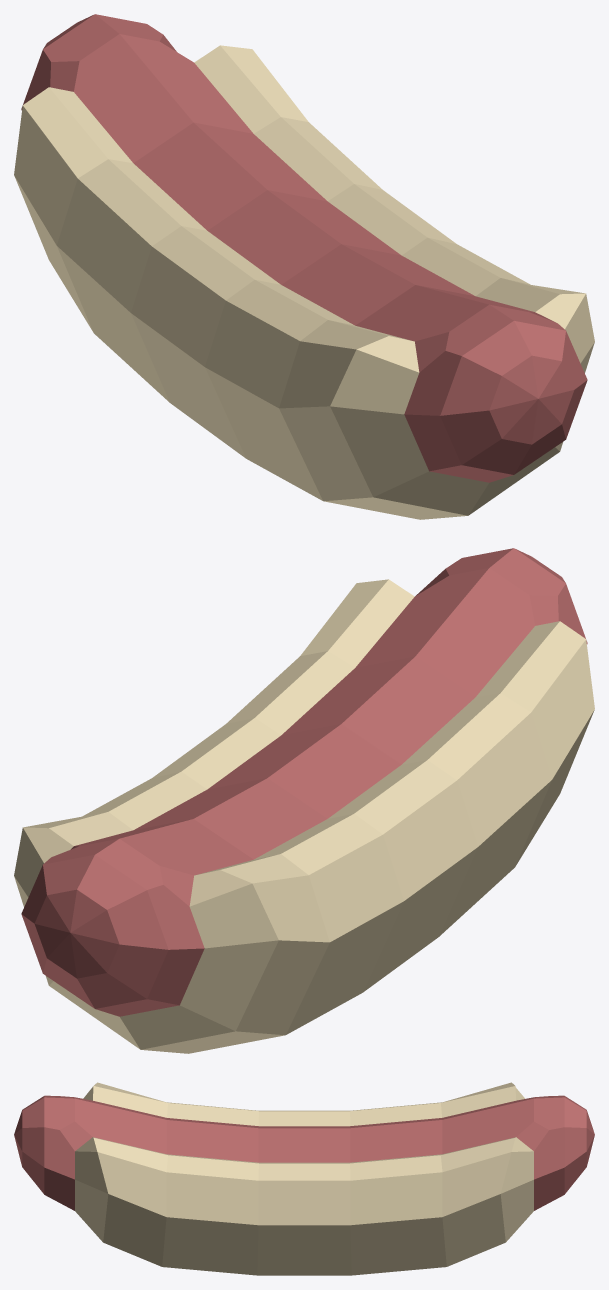
The model's file is HotDog.fbx.
The picture shows the model from 3 angles, top to bottom: view 1: azimuth 30°, elevation 25°; view 2: azimuth 150°, elevation 25°; view 3: azimuth 270°, elevation 25°; orthographic projection. The views are drawn at different scales.
Visible parts, largest first — view 1: pCylinder1; view 2: pCylinder1; view 3: pCylinder1.
Part boxes in pixels (x1,y1,x2,y2): pCylinder1: [14, 14, 594, 519]; pCylinder1: [14, 548, 594, 1053]; pCylinder1: [14, 1082, 594, 1275].
Bounding box in the file's own units: 3.21 × 3.16 × 9.53.
